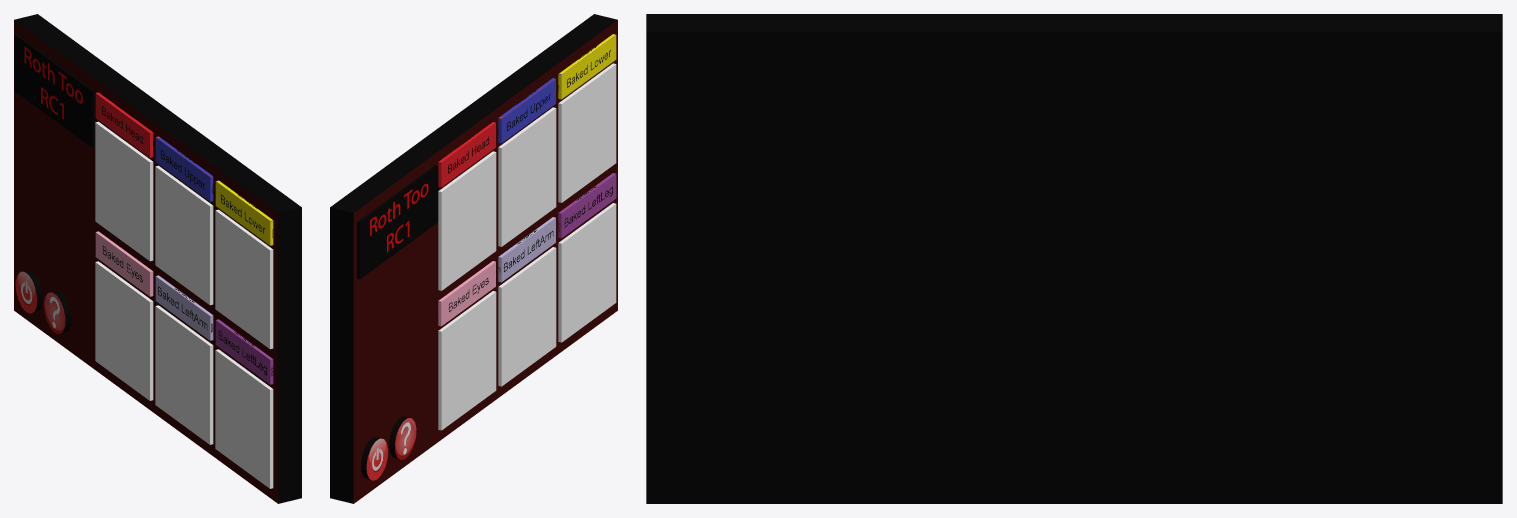
Rendered from RothTooRC1_HUD_BoM_Applier.dae.
3 views of the same model, side by side, from view 1: azimuth 30°, elevation 25°; view 2: azimuth 150°, elevation 25°; view 3: azimuth 270°, elevation 25° (orthographic). The views are drawn at different scales.
Visible parts, largest first — view 1: prim15, prim3, prim8, prim4, prim5, prim6, prim7, prim2, prim9, prim10, prim12, prim13 (+4 smaller); view 2: prim15, prim6, prim7, prim8, prim4, prim5, prim3, prim2, prim9, prim12, prim10, prim13 (+4 smaller); view 3: prim15.
Part boxes in pixels (left/top/right/bottom): prim15: left=14, top=14, right=301, bottom=503; prim3: left=215, top=349, right=273, bottom=488; prim8: left=95, top=121, right=153, bottom=261; prim4: left=155, top=305, right=213, bottom=444; prim5: left=95, top=261, right=153, bottom=400; prim6: left=215, top=209, right=273, bottom=349; prim7: left=155, top=165, right=213, bottom=305; prim2: left=14, top=34, right=95, bottom=147; prim9: left=215, top=319, right=273, bottom=384; prim10: left=155, top=275, right=213, bottom=340; prim12: left=215, top=180, right=273, bottom=245; prim13: left=155, top=136, right=213, bottom=201; prim15: left=330, top=14, right=617, bottom=503; prim6: left=558, top=63, right=616, bottom=202; prim7: left=498, top=107, right=556, bottom=246; prim8: left=438, top=151, right=496, bottom=290; prim4: left=498, top=247, right=556, bottom=386; prim5: left=438, top=291, right=496, bottom=430; prim3: left=558, top=203, right=616, bottom=342; prim2: left=357, top=165, right=438, bottom=279; prim9: left=558, top=173, right=616, bottom=238; prim12: left=558, top=34, right=616, bottom=99; prim10: left=498, top=217, right=555, bottom=282; prim13: left=498, top=78, right=555, bottom=143; prim15: left=646, top=14, right=1502, bottom=503.
Bounding box in the file's own units: 0.031 × 0.4839 × 0.2938.
